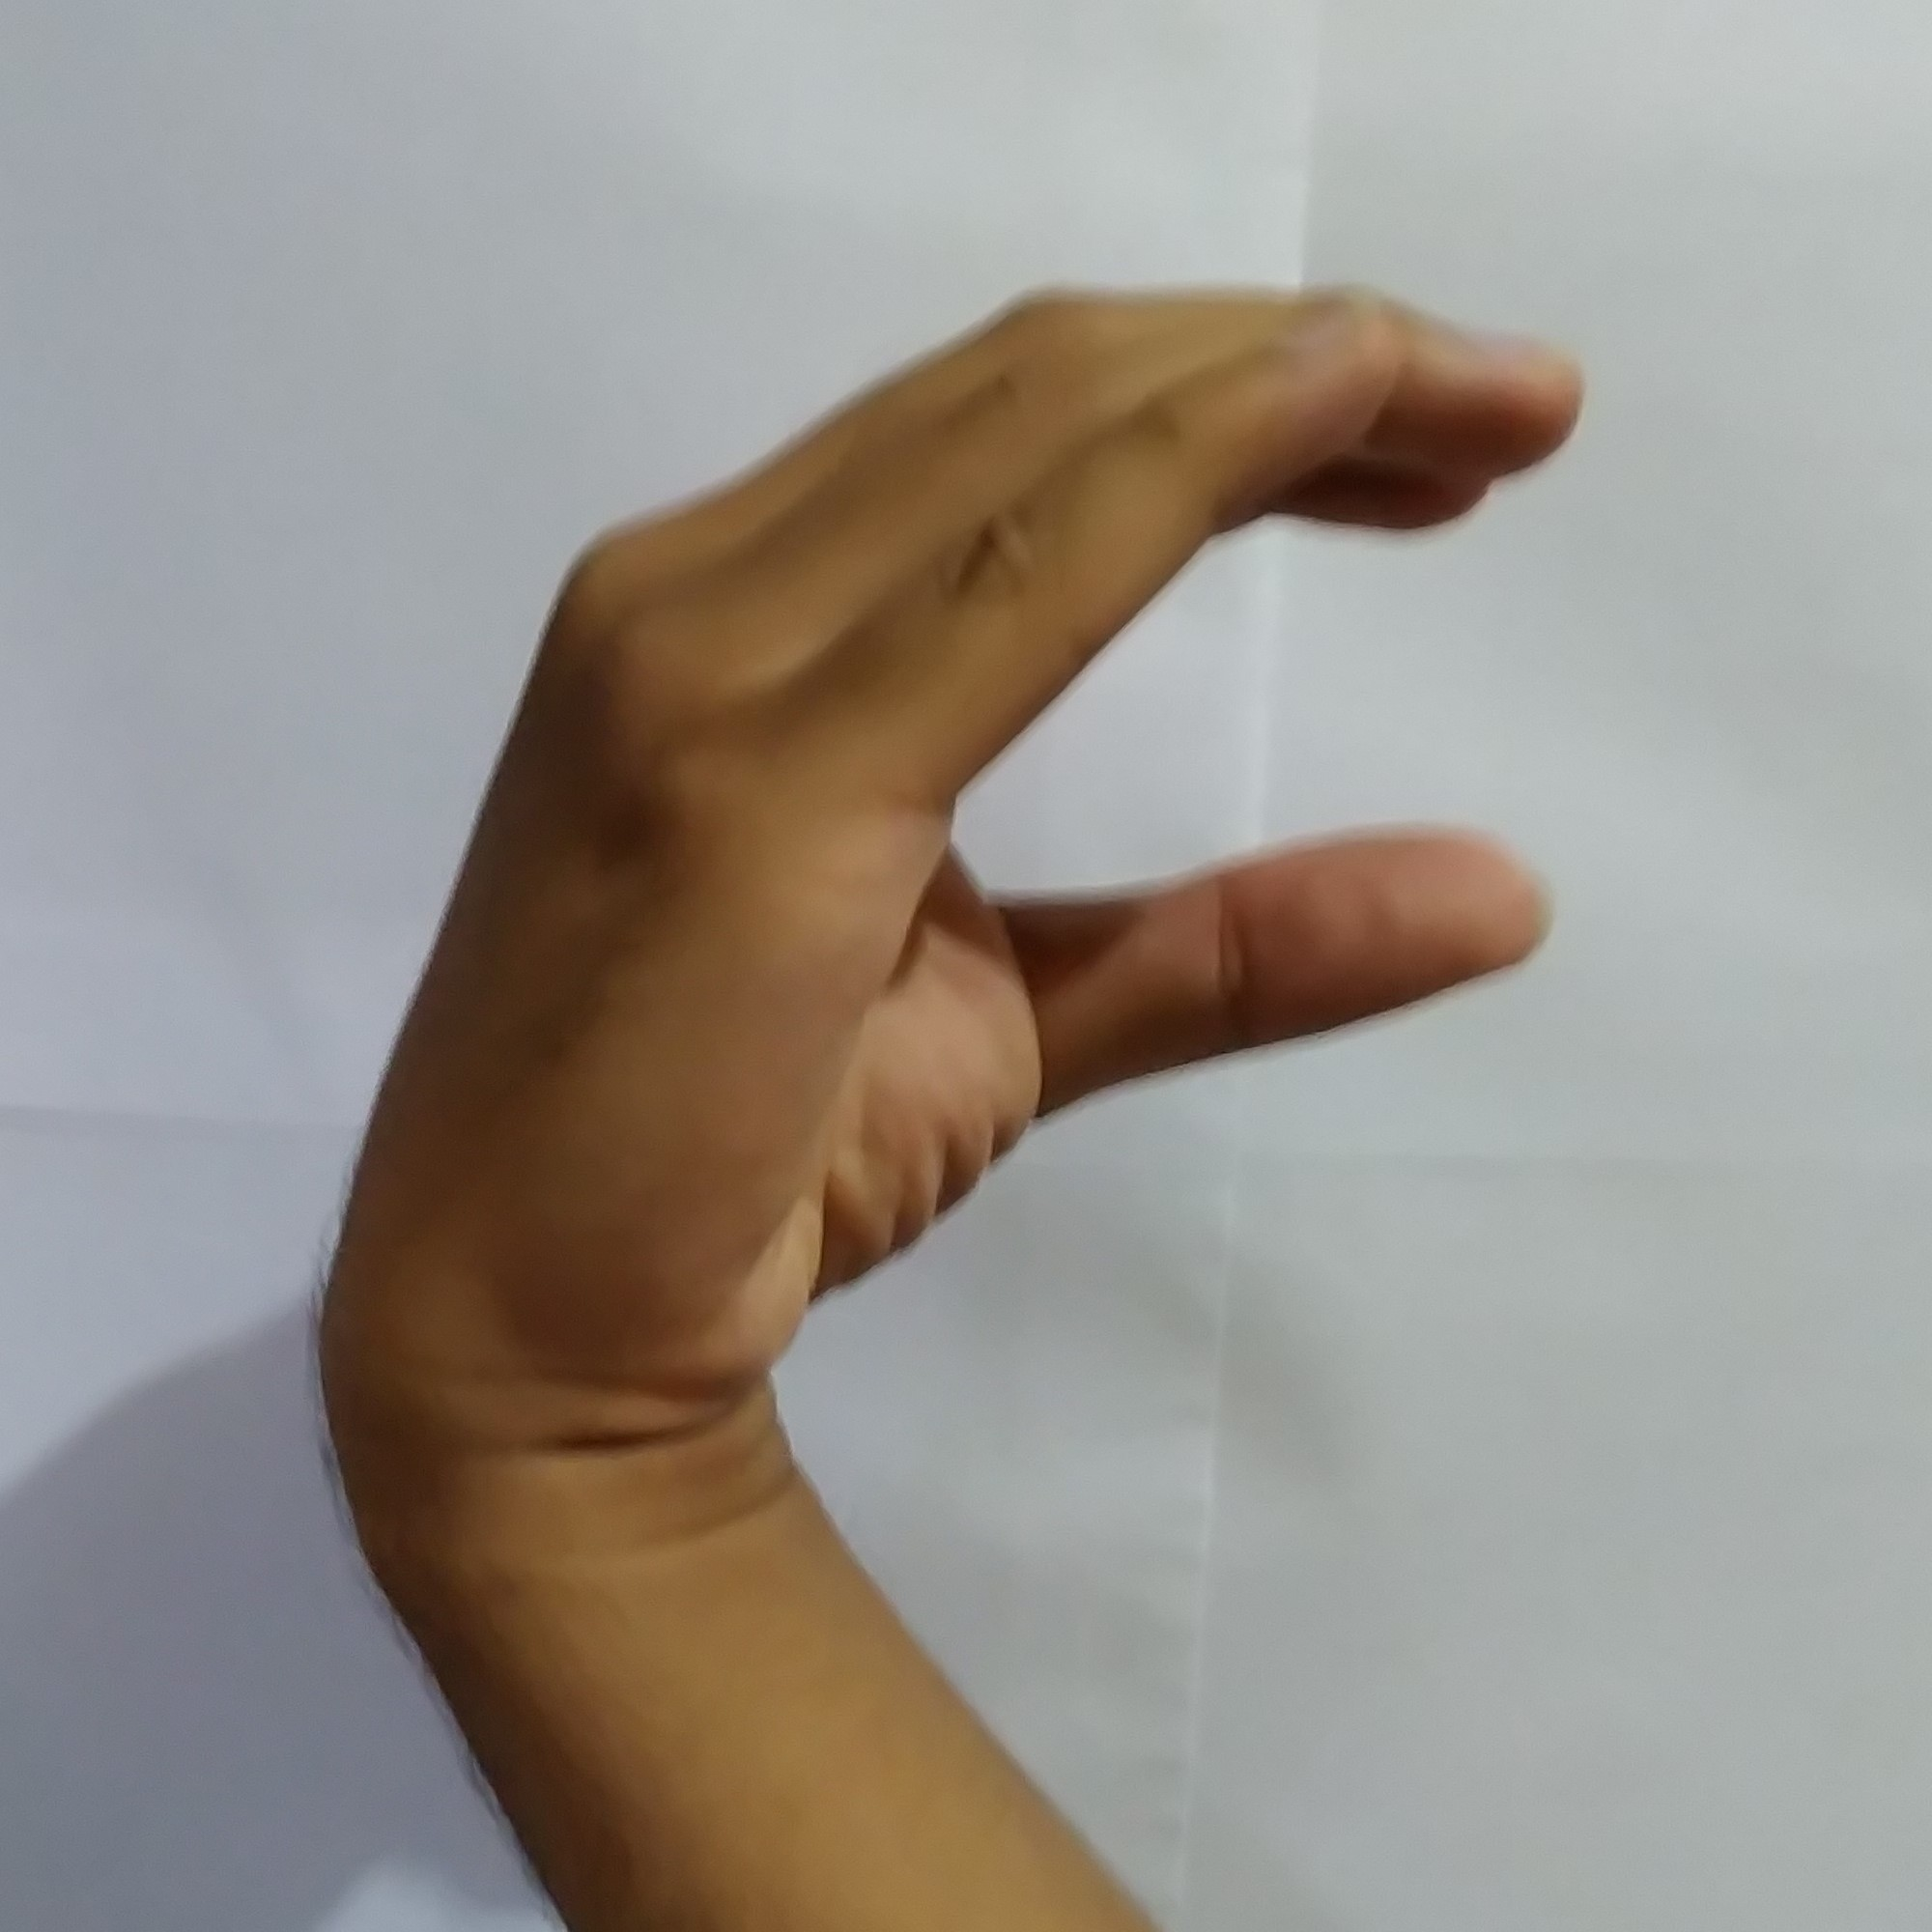C: (338, 249, 1615, 1396)
